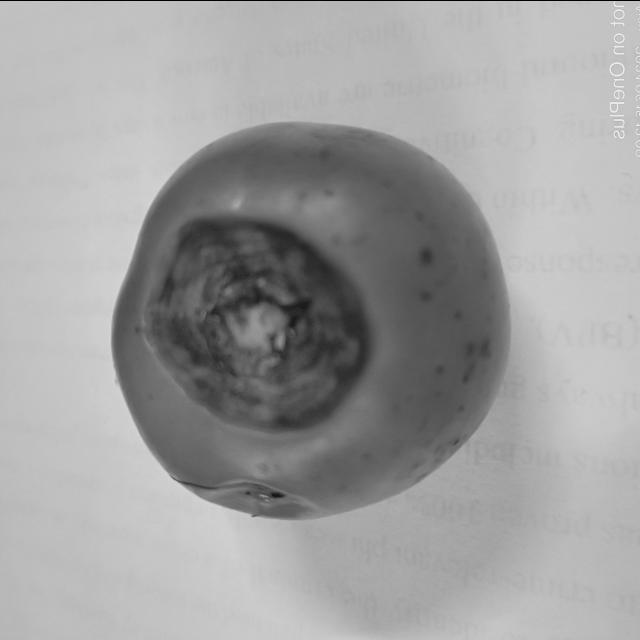Anthrocnose: (144, 213, 379, 438)
